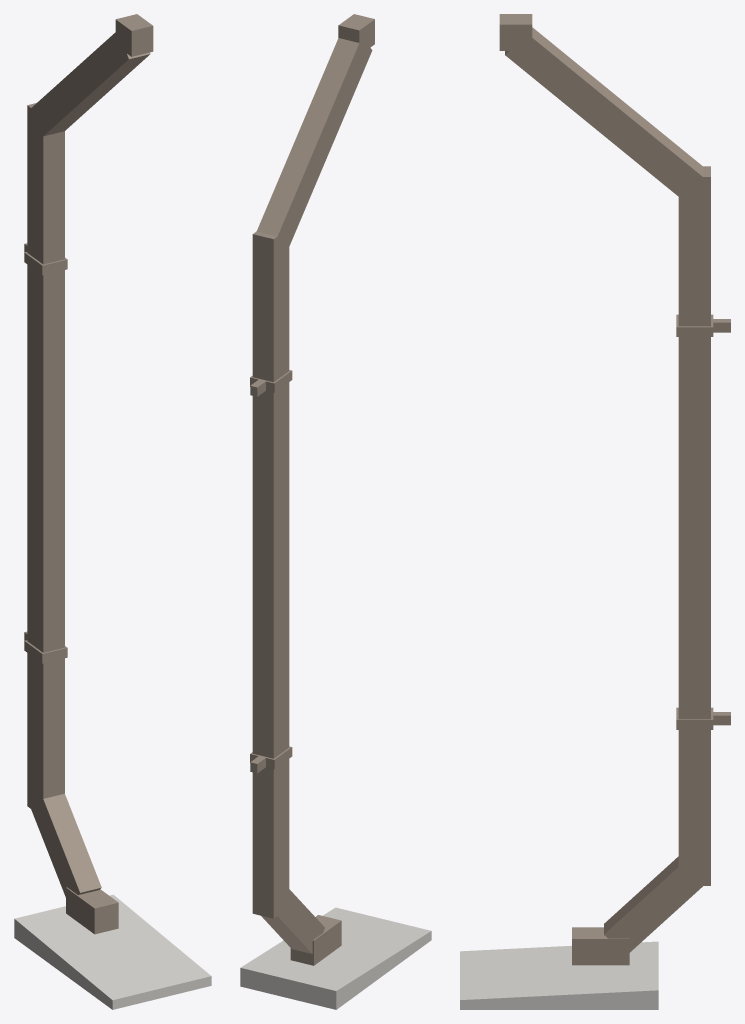
File: downspout.glb
3 renders of one model, left to right at view 1: azimuth 30°, elevation 25°; view 2: azimuth 150°, elevation 25°; view 3: azimuth 270°, elevation 25°, orthographic. The views are drawn at different scales.
Visible parts, largest first — view 1: downspout_gutter, downspout_concrete; view 2: downspout_gutter, downspout_concrete; view 3: downspout_gutter, downspout_concrete.
Part boxes in pixels (x1,y1,x2,y2): downspout_gutter: (24,14,153,934); downspout_concrete: (14,894,211,1009); downspout_gutter: (250,14,374,965); downspout_concrete: (240,907,431,1009); downspout_gutter: (499,14,730,965); downspout_concrete: (460,941,658,1009).
Bounding box in the file's own units: 0.32 × 2.95 × 0.75.
